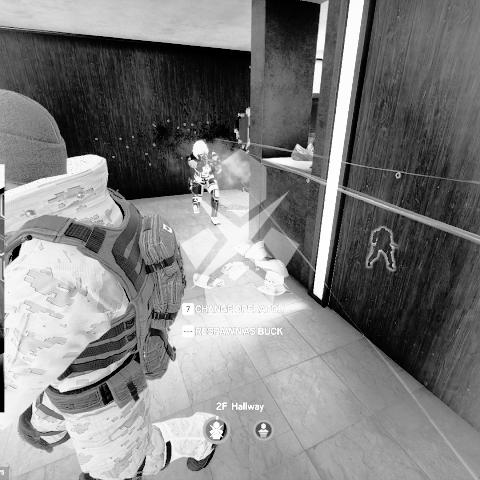Character: (0, 83, 207, 480), (186, 139, 224, 227)
Head: (0, 84, 68, 193), (191, 140, 209, 160)
